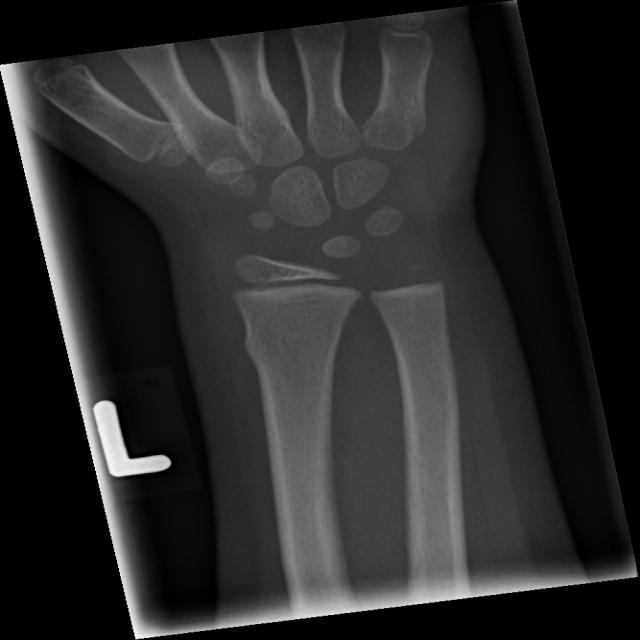radius fracture: (224, 311, 327, 415)
